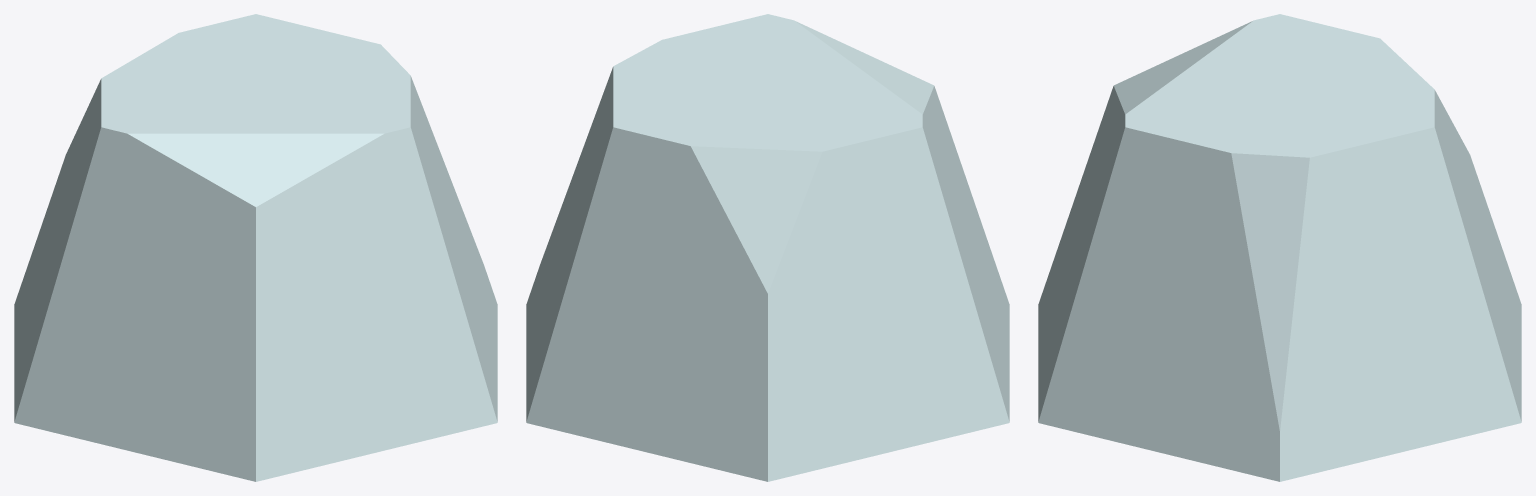
Rendered from stone_smallD.glb.
3 renders of one model, left to right at view 1: azimuth 30°, elevation 25°; view 2: azimuth 150°, elevation 25°; view 3: azimuth 270°, elevation 25°, orthographic.
Parts seen in each view (by area): view 1: stone_smallD; view 2: stone_smallD; view 3: stone_smallD.
Boxes of the visible parts, bbox=[...] form: stone_smallD: bbox=[14, 14, 497, 481]; stone_smallD: bbox=[526, 14, 1009, 481]; stone_smallD: bbox=[1038, 14, 1521, 481].
Bounding box in the file's own units: 0.4257 × 0.2309 × 0.3687.
1 material, 1 textured.
